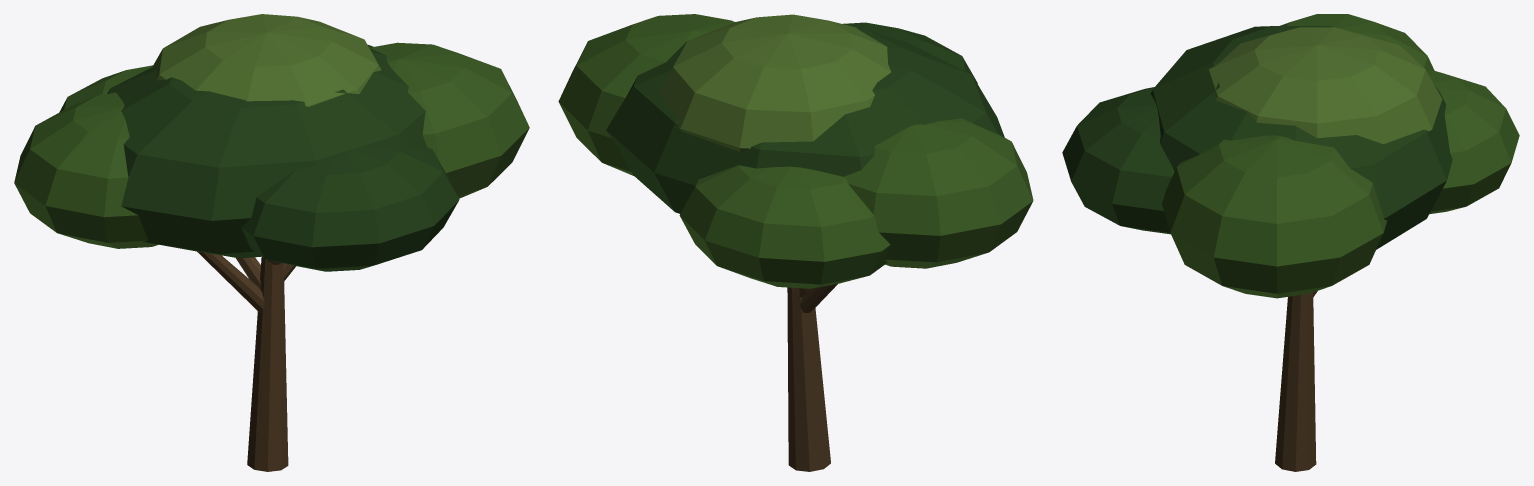
File: env_shade_tree.obj
The picture shows the model from 3 angles, left to right: view 1: azimuth 30°, elevation 25°; view 2: azimuth 150°, elevation 25°; view 3: azimuth 270°, elevation 25°; orthographic projection. The views are drawn at different scales.
Visible parts, largest first — view 1: ShadeTree; view 2: ShadeTree; view 3: ShadeTree.
Part boxes in pixels (x1=…): ShadeTree: x1=14, y1=14, x2=529, y2=471; ShadeTree: x1=558, y1=14, x2=1033, y2=471; ShadeTree: x1=1062, y1=14, x2=1519, y2=471.
Bounding box in the file's own units: 8.62 × 7.57 × 7.41.
